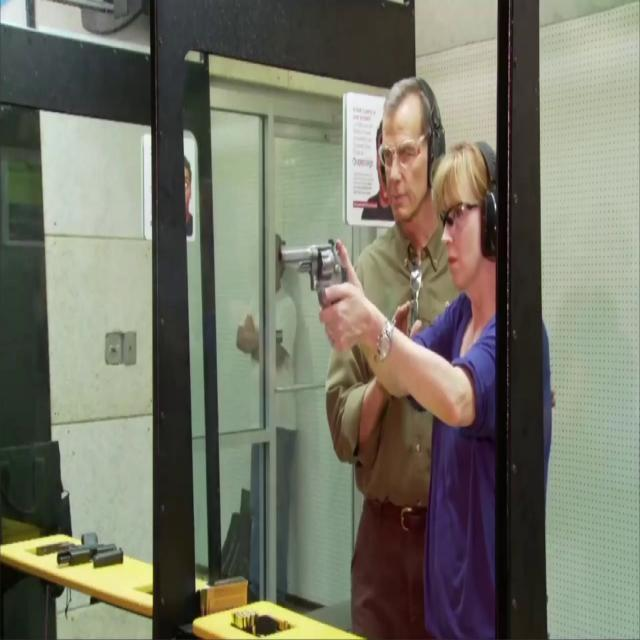weapon: (278, 239, 349, 309)
